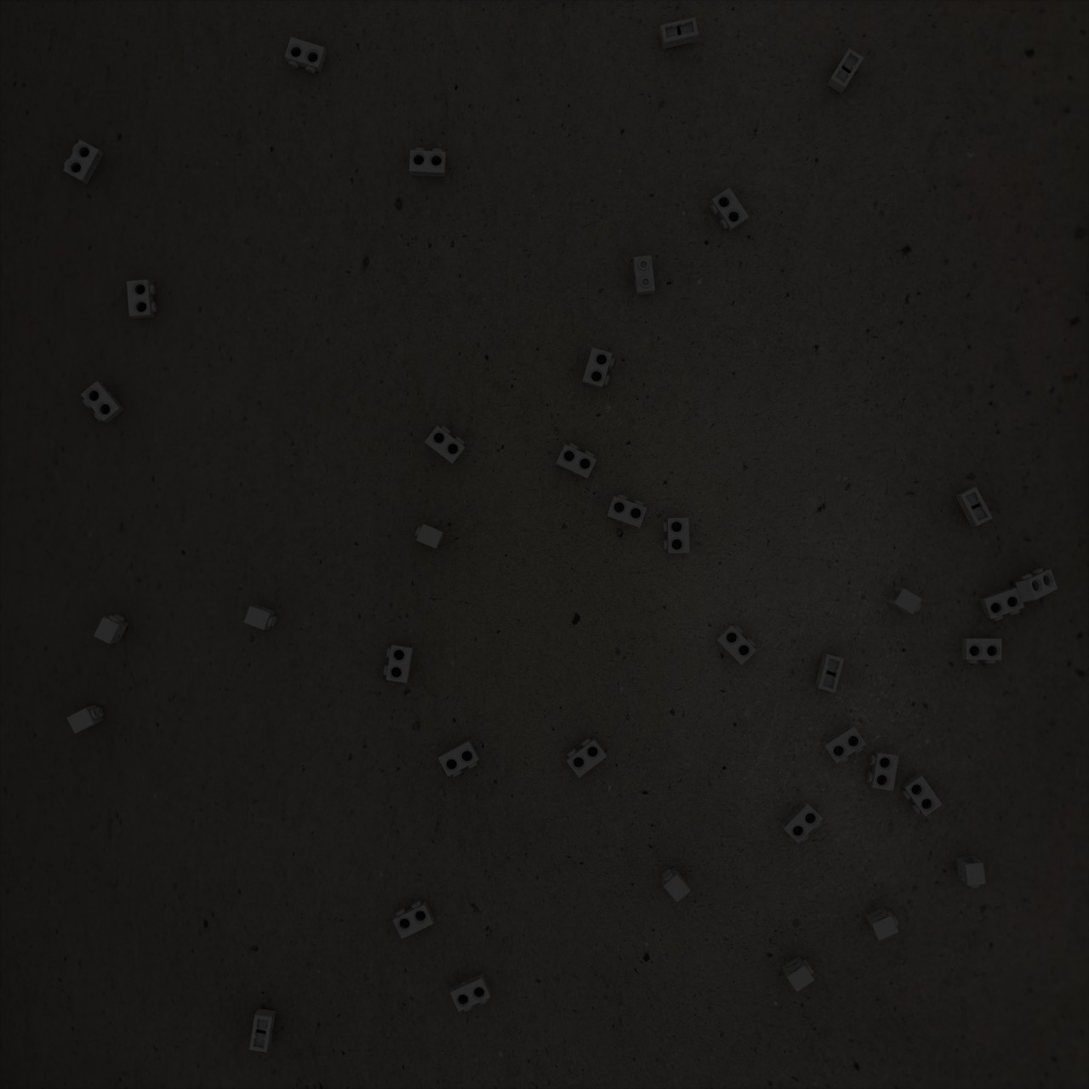lego: (63, 139, 104, 185), (901, 773, 943, 817), (781, 801, 823, 844), (81, 381, 124, 423), (822, 724, 866, 764), (710, 187, 749, 232), (715, 624, 757, 665), (827, 48, 864, 94), (566, 737, 607, 778), (424, 425, 466, 465), (450, 973, 491, 1012), (438, 739, 480, 777), (393, 901, 435, 939), (979, 587, 1025, 621), (284, 37, 327, 73), (955, 487, 993, 527), (1015, 568, 1058, 603), (556, 443, 597, 479), (606, 494, 647, 528), (582, 347, 615, 389), (659, 17, 699, 49), (867, 751, 899, 791), (126, 279, 157, 319), (781, 956, 815, 992), (249, 1008, 276, 1053), (864, 907, 899, 941), (384, 644, 414, 683), (815, 653, 844, 693), (409, 147, 447, 177), (67, 704, 104, 734), (661, 867, 691, 903), (93, 614, 129, 644), (962, 638, 1002, 663), (956, 855, 986, 888), (663, 518, 690, 553), (887, 587, 922, 614), (632, 255, 655, 296), (244, 604, 277, 630), (415, 524, 445, 549)
